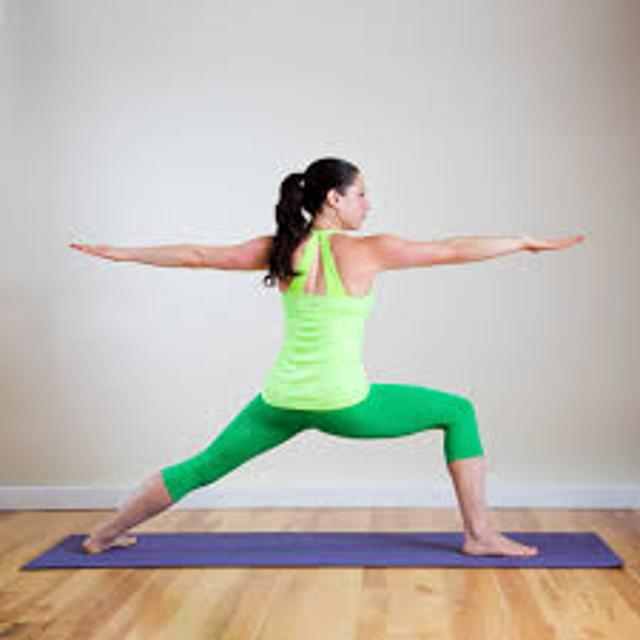Warrior_II: (65, 152, 588, 562)
